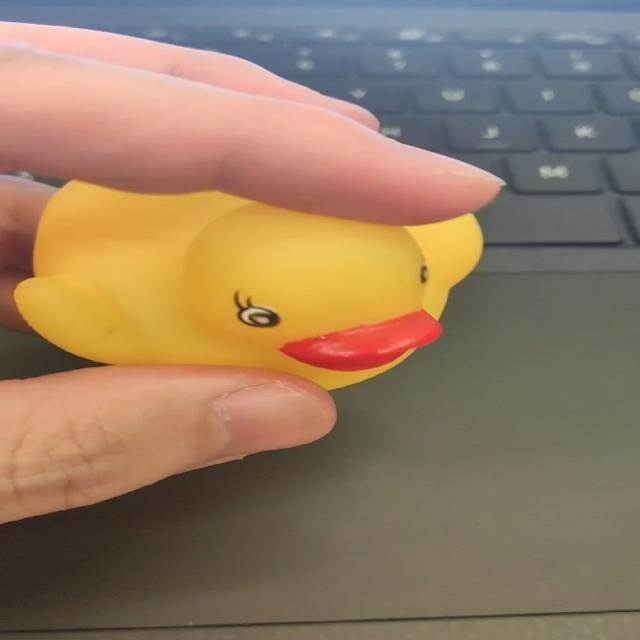rubber-duck: (14, 181, 481, 387)
